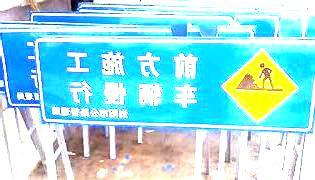sign: (37, 39, 312, 130)
